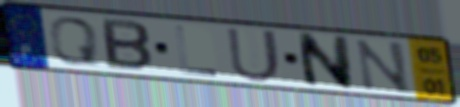B: (99, 16, 155, 74)
L: (172, 23, 221, 79)
N: (294, 30, 356, 91), (353, 37, 414, 96)
Q: (47, 15, 102, 67)
U: (224, 25, 284, 85)
